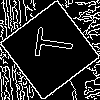T: (25, 25, 75, 62)
